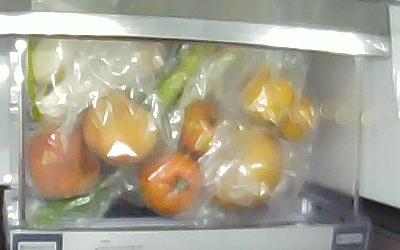peach_vinyl: (79, 93, 156, 165), (26, 129, 103, 196)
pear_vinyl: (203, 127, 282, 207)
tangerine_vinyl: (242, 72, 294, 127), (279, 94, 315, 141)
tomato_vinyl: (142, 153, 204, 218), (176, 100, 224, 157)
